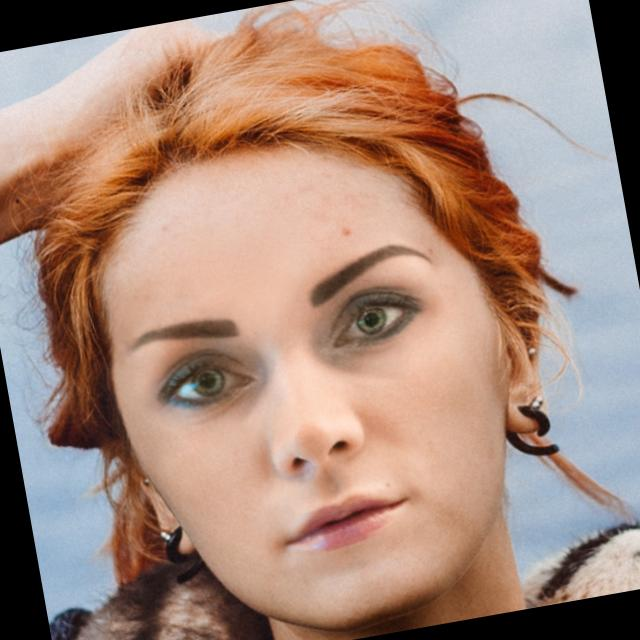face: (28, 69, 607, 640)
